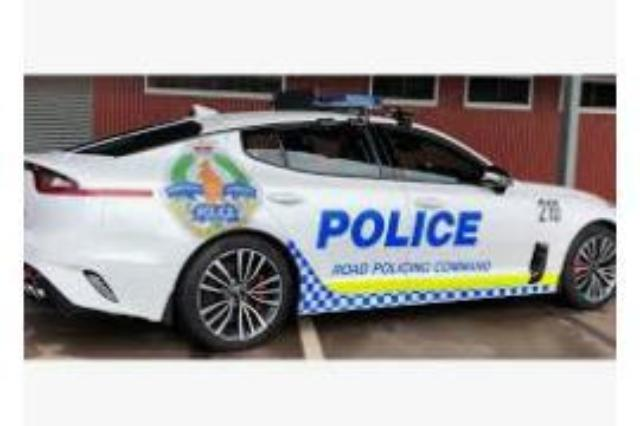police_car: (24, 92, 616, 353)
